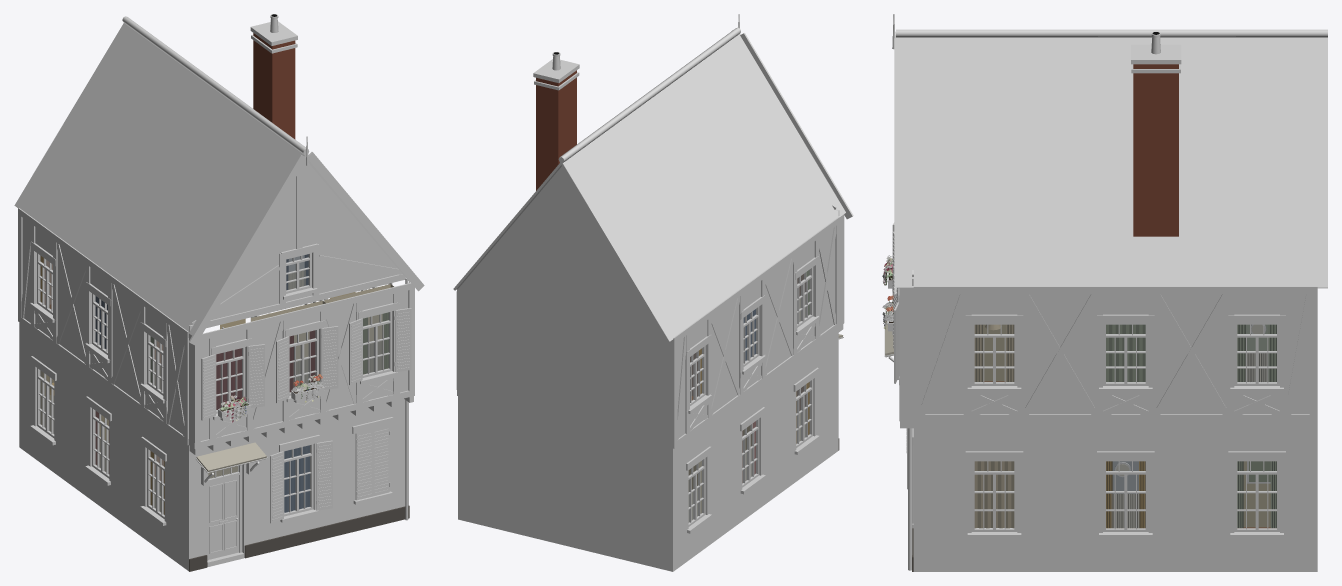
File: StraightEnd_Outer2.glb
3 views of the same model, side by side, from view 1: azimuth 30°, elevation 25°; view 2: azimuth 150°, elevation 25°; view 3: azimuth 270°, elevation 25° (orthographic). The views are drawn at different scales.
Parts seen in each view (by area): view 1: StraightEnd_Outer2; view 2: StraightEnd_Outer2; view 3: StraightEnd_Outer2.
Part boxes in pixels (bbox=[...]): StraightEnd_Outer2: bbox=[14, 14, 424, 571]; StraightEnd_Outer2: bbox=[453, 14, 853, 571]; StraightEnd_Outer2: bbox=[882, 14, 1327, 571].
Bounding box in the file's own units: 6.4 × 11.35 × 8.82.
